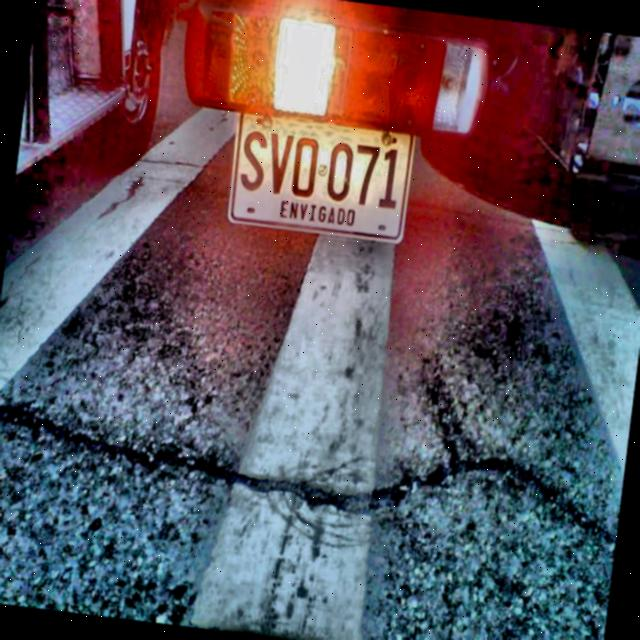plate: (230, 113, 412, 240)
